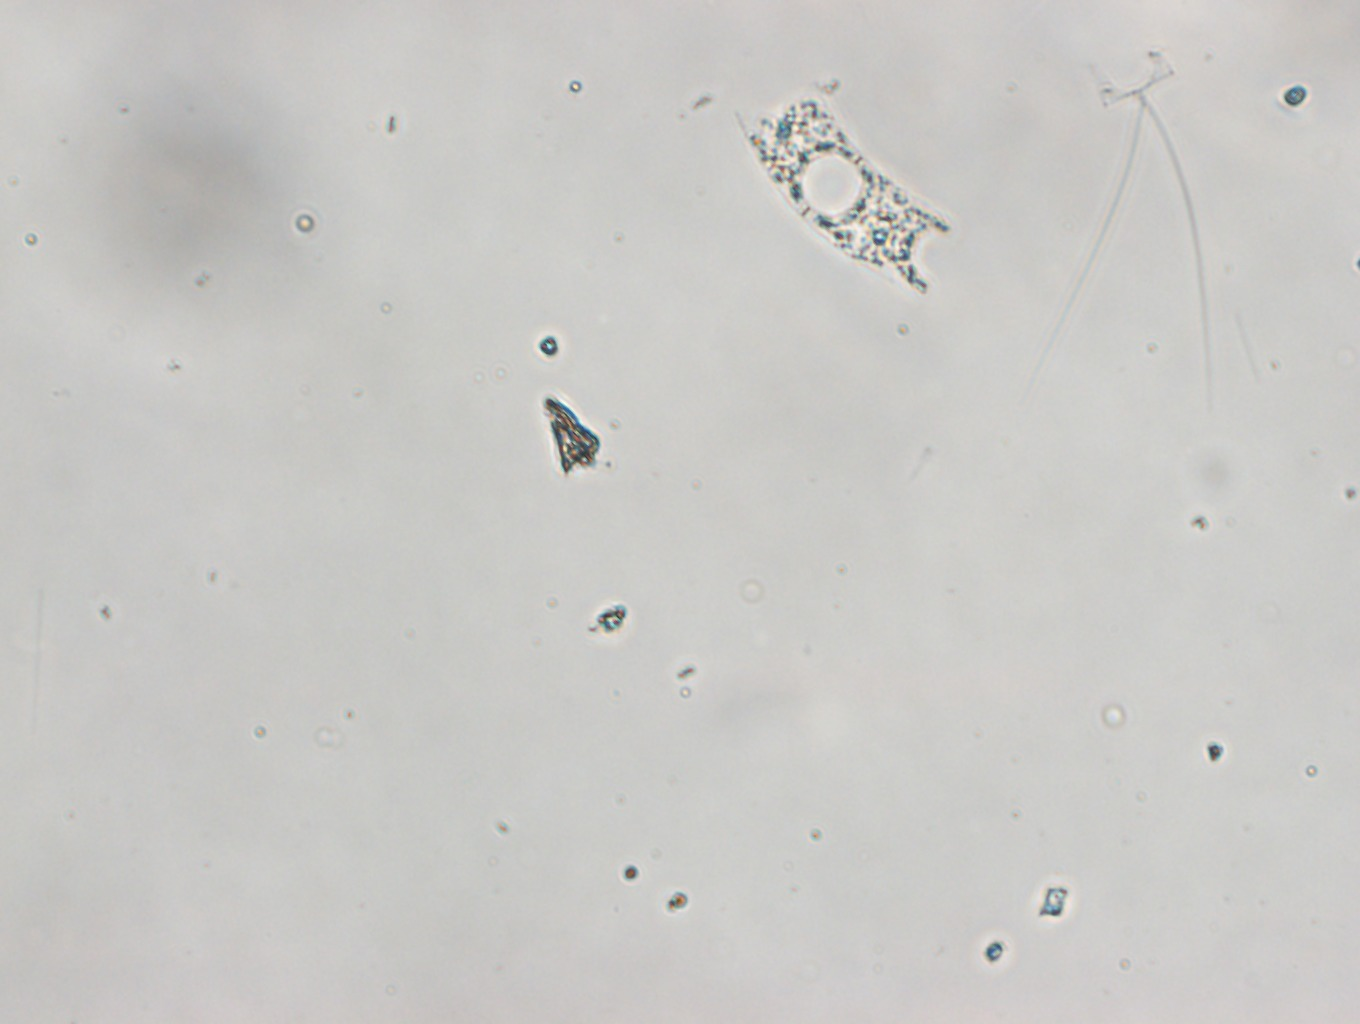eucampia: (720, 73, 967, 297)
